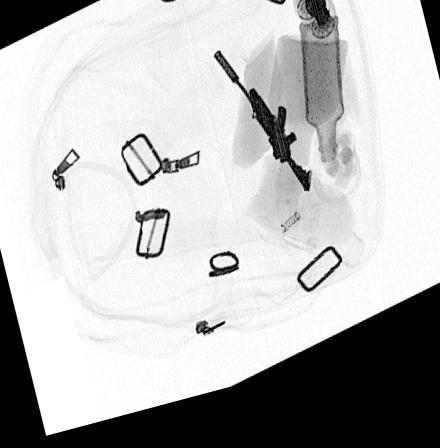Gun: (210, 61, 313, 211)
